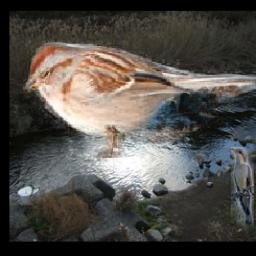Cuckoo: (231, 148, 254, 239)
Sparrow: (23, 41, 256, 158)
